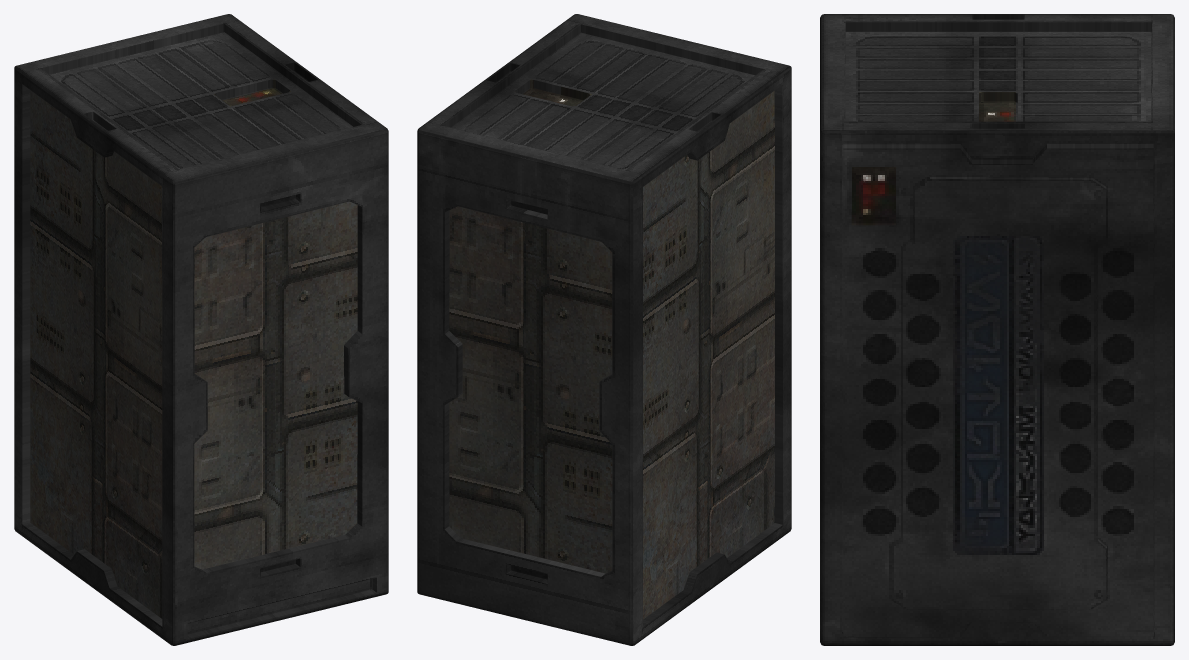
The model's file is machinery_2.glb.
The picture shows the model from 3 angles, left to right: view 1: azimuth 30°, elevation 25°; view 2: azimuth 150°, elevation 25°; view 3: azimuth 270°, elevation 25°; orthographic projection. The views are drawn at different scales.
Parts seen in each view (by area): view 1: machinery_2; view 2: machinery_2; view 3: machinery_2.
Part boxes in pixels (box(x1,y1,x2,y2)): machinery_2: box(14, 14, 388, 645); machinery_2: box(417, 14, 791, 645); machinery_2: box(820, 14, 1174, 645).
Bounding box in the file's own units: 0.58 × 1.13 × 0.7.
2 materials, 2 textured.
